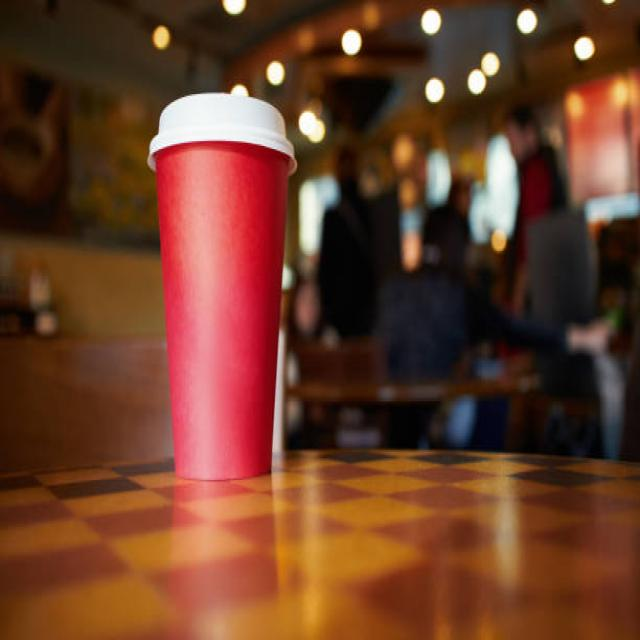Red_cup: (150, 95, 294, 479)
